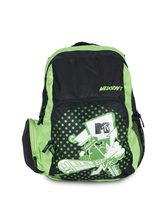bag: (22, 34, 147, 184)
